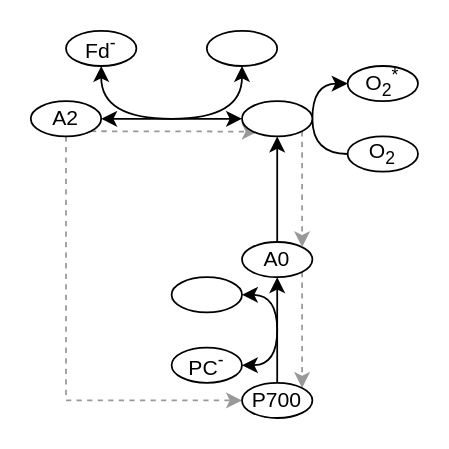
Some shapes in this 449 by 449 pixel diagram are drawn without their labels. Here are the shapes that lost their labels. From the top down, the centre of each, then its label:
the point at 241,47: Fd
the point at 276,117: A1
the point at 206,293: PC
